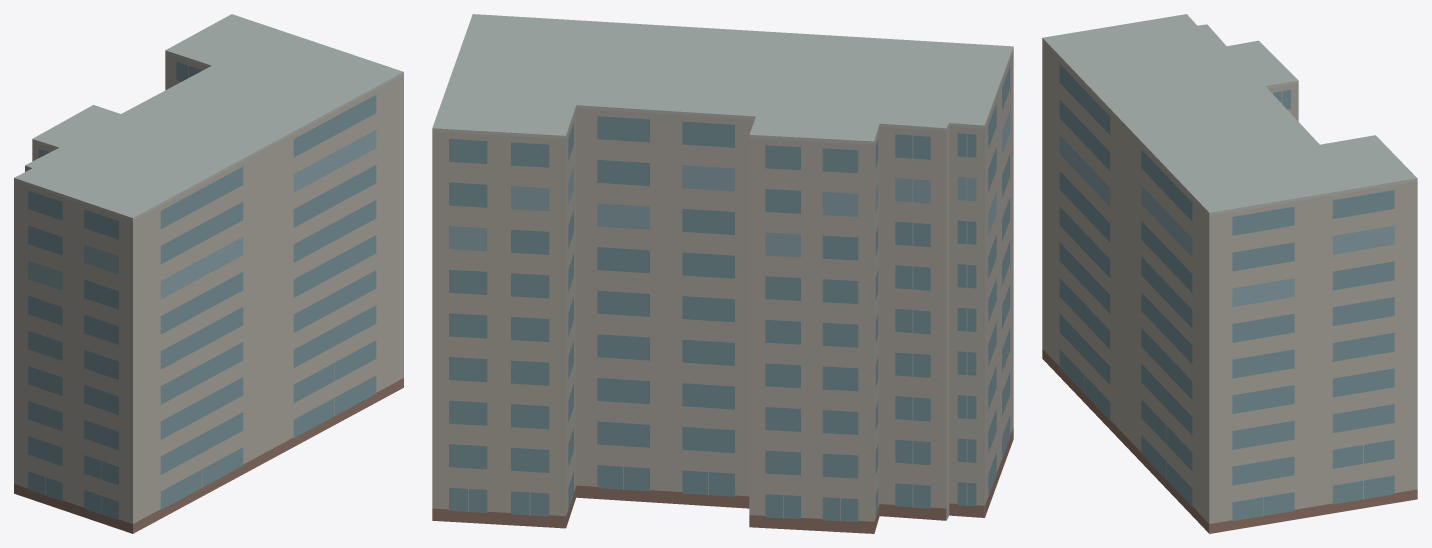
File: survey-upis-33028926.glb
The picture shows the model from 3 angles, left to right: view 1: azimuth 30°, elevation 25°; view 2: azimuth 150°, elevation 25°; view 3: azimuth 270°, elevation 25°; orthographic projection. The views are drawn at different scales.
Parts seen in each view (by area): view 1: survey-upis-33028926.tmp; view 2: survey-upis-33028926.tmp; view 3: survey-upis-33028926.tmp.
Boxes of the visible parts, x1=… form: survey-upis-33028926.tmp: x1=14, y1=14, x2=403, y2=533; survey-upis-33028926.tmp: x1=432, y1=14, x2=1013, y2=533; survey-upis-33028926.tmp: x1=1042, y1=14, x2=1417, y2=533.
Bounding box in the file's own units: 39.47 × 29.7 × 31.45.
